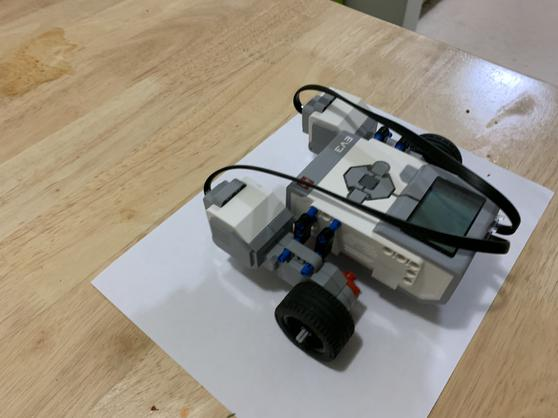robot: (190, 79, 527, 366)
